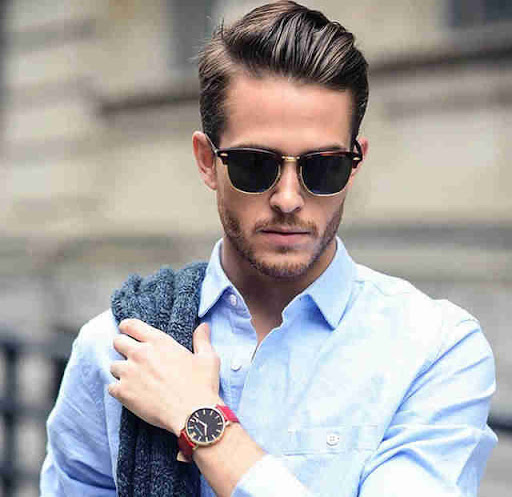glasses: (211, 137, 359, 204)
